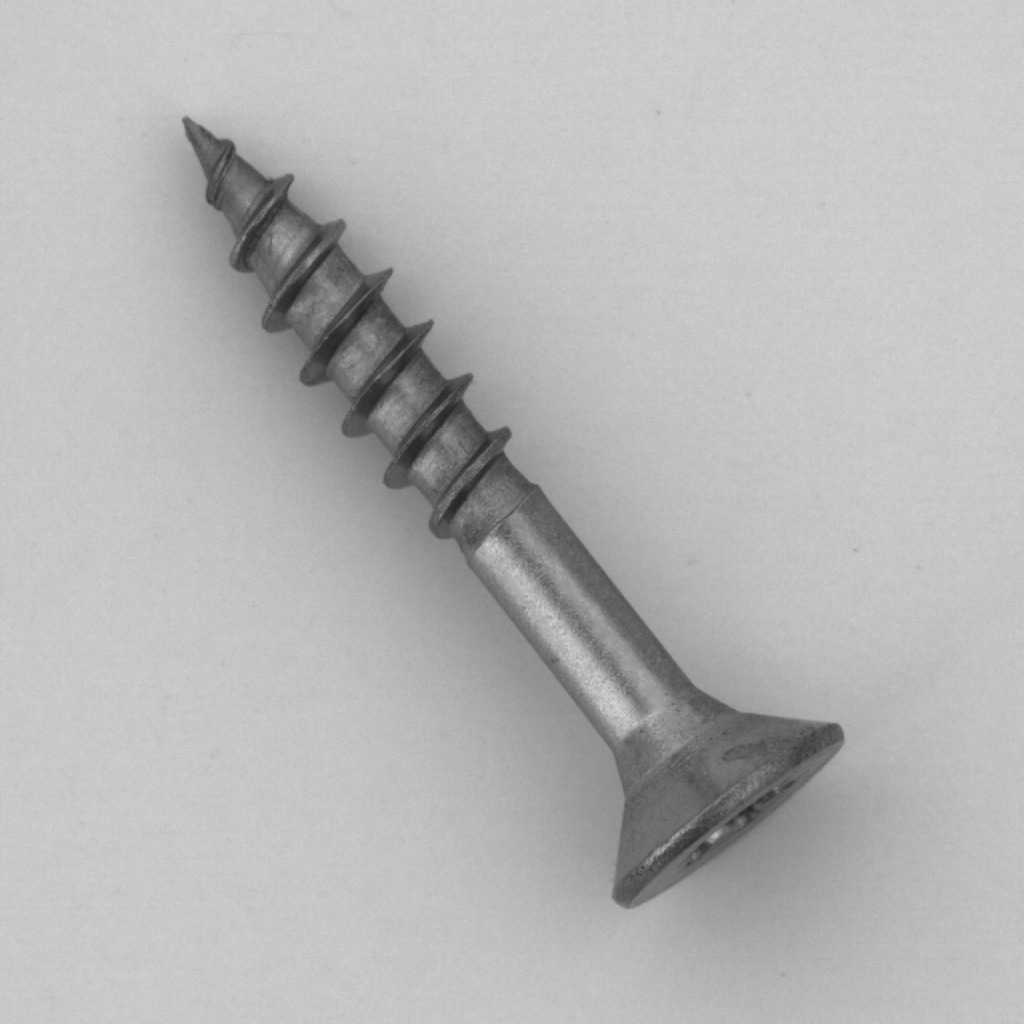good: (160, 100, 864, 934)
